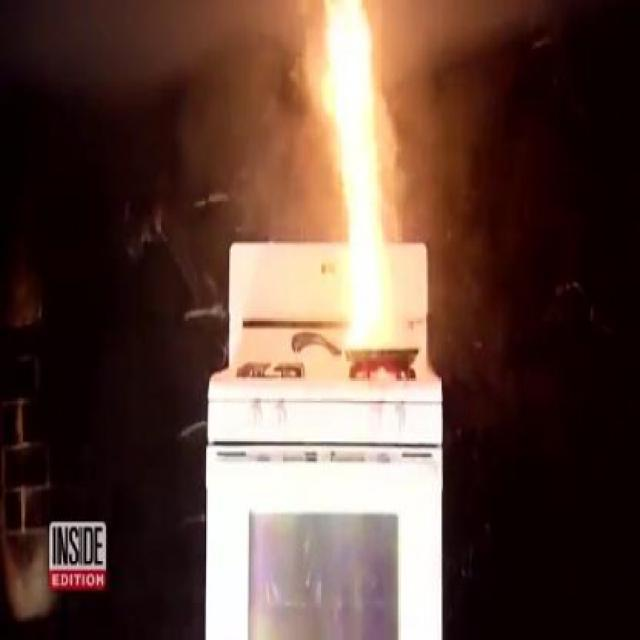fire: (293, 16, 412, 370)
